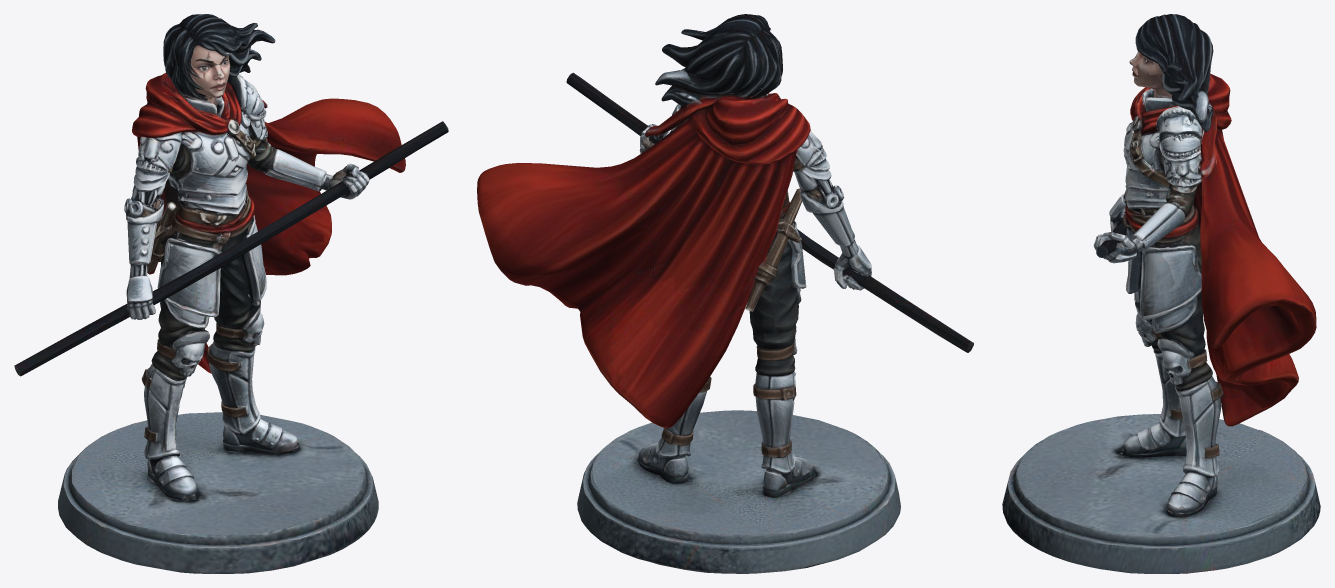
The model's file is varja.glb.
3 renders of one model, left to right at view 1: azimuth 30°, elevation 25°; view 2: azimuth 150°, elevation 25°; view 3: azimuth 270°, elevation 25°, orthographic.
Parts seen in each view (by area): view 1: output_unwrapped; view 2: output_unwrapped; view 3: output_unwrapped.
Part boxes in pixels (box(x1,y1,x2,y2)): output_unwrapped: box(14, 14, 448, 573); output_unwrapped: box(477, 14, 973, 573); output_unwrapped: box(1002, 14, 1320, 573).
Size of the model in its own units: 1.76 by 1.9 by 1.13.
1 material, 1 textured.
